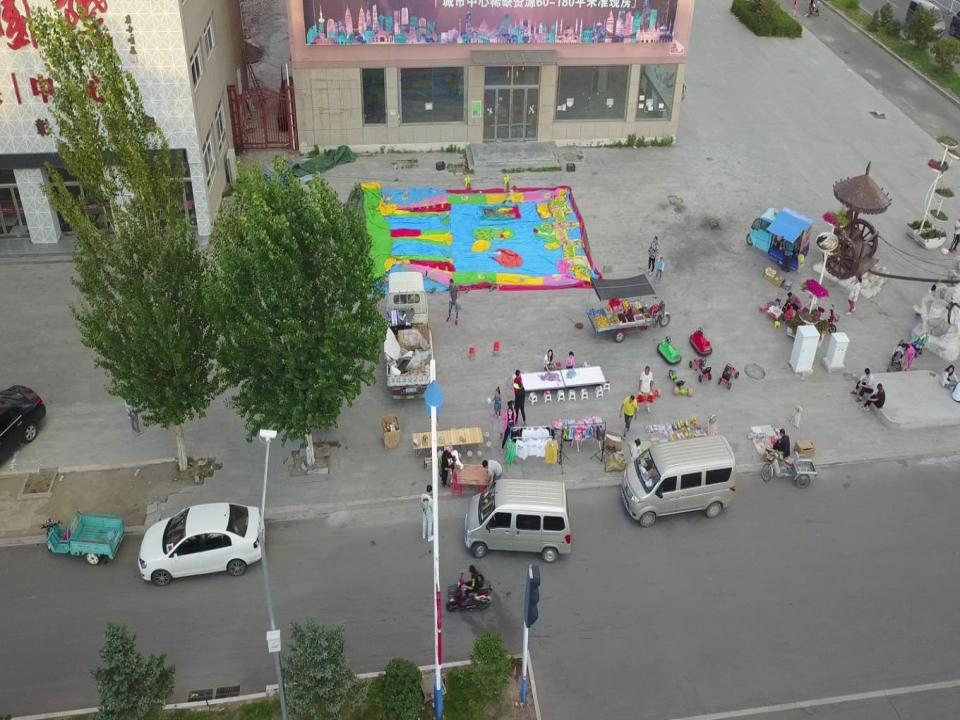car: (620, 433, 736, 527), (139, 500, 265, 580), (1, 382, 46, 466)
truck: (384, 272, 434, 398)
van: (466, 479, 570, 560)
